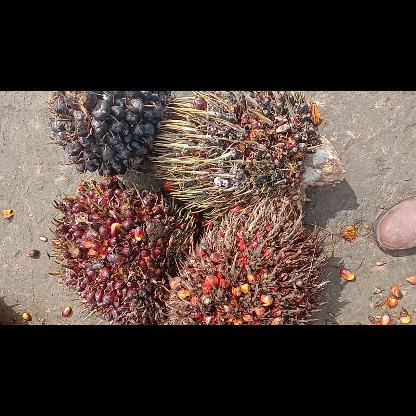TBS abnormal: (155, 91, 345, 215)
TBS masak: (52, 176, 196, 324)
TBS mentah: (47, 91, 169, 174)
Terlalu masak: (164, 198, 330, 324)
